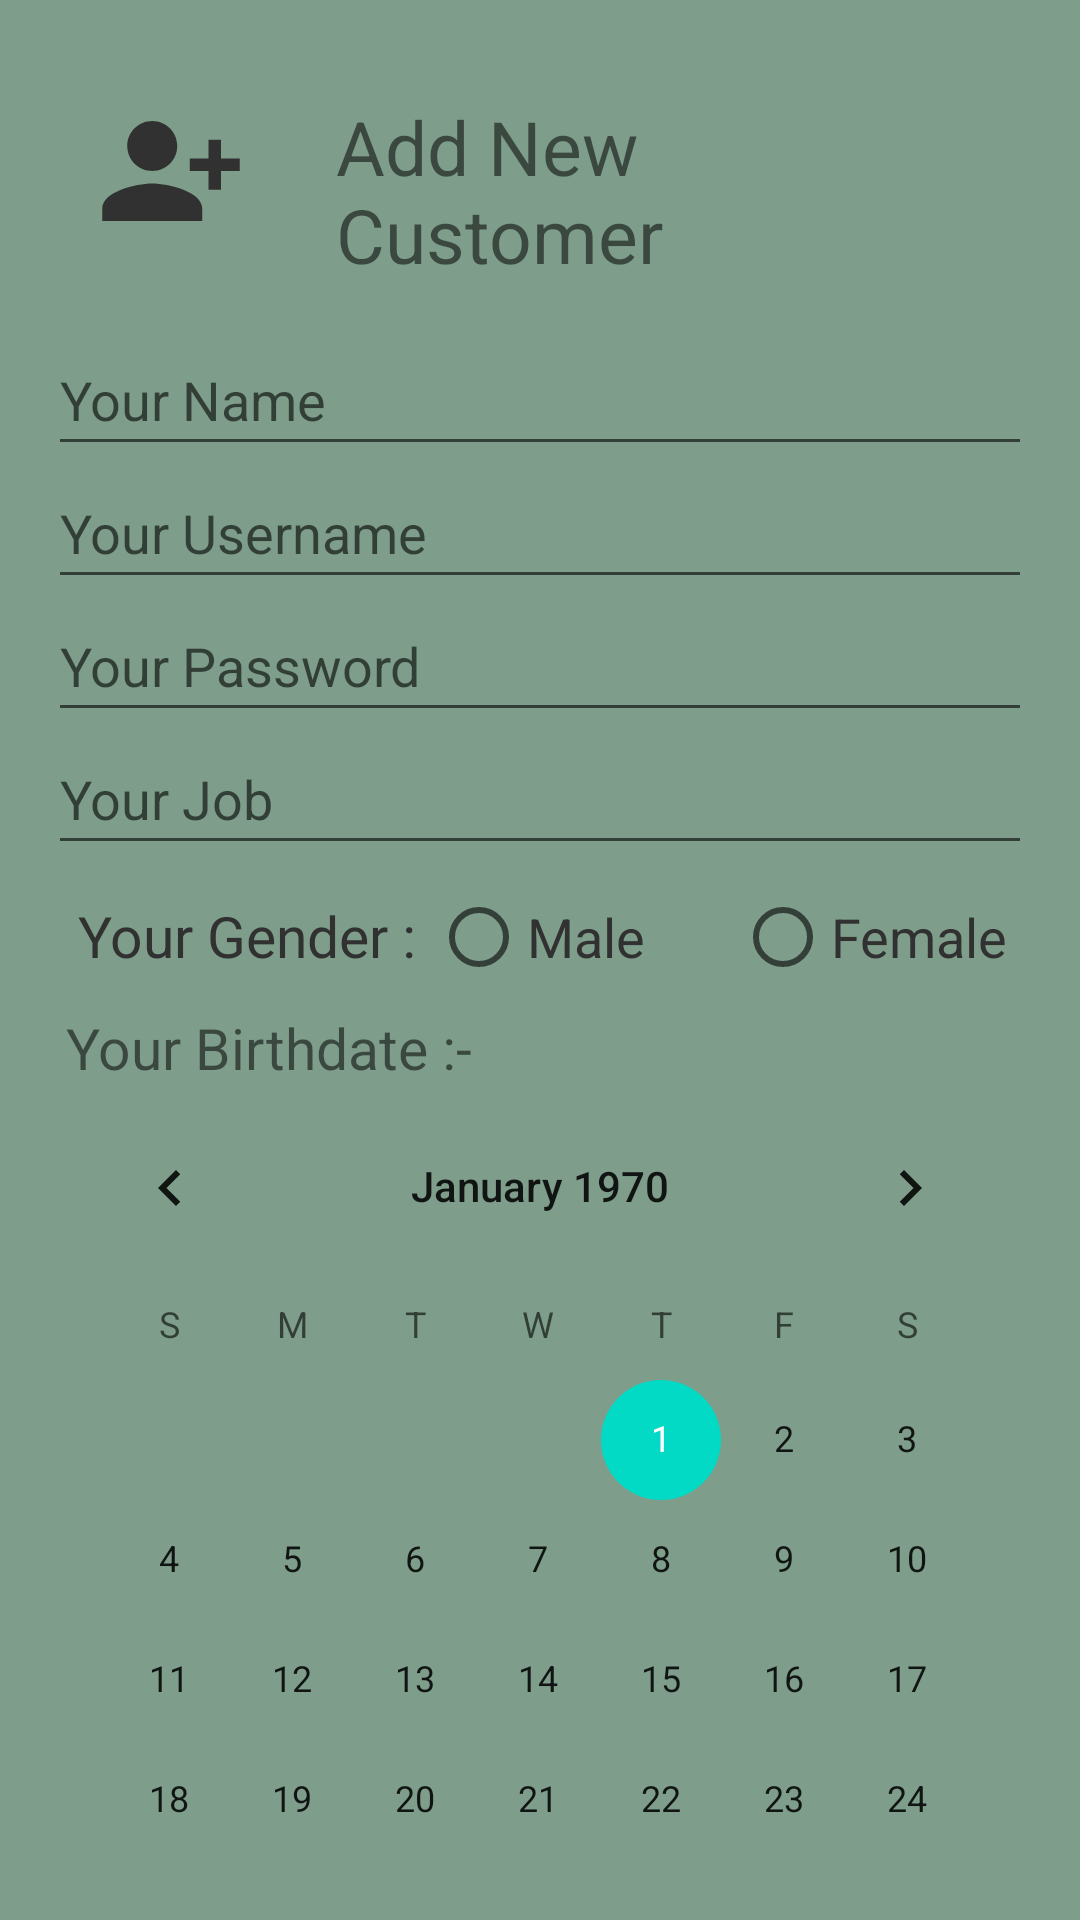

Screen size 1080 × 1920. Icon name, then its center in pixels as (x=x, y=y):
icpersonadd: (x=171, y=171)
